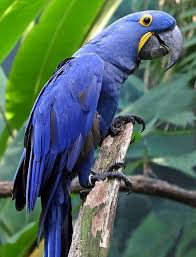guacamaya: (7, 7, 186, 257)
